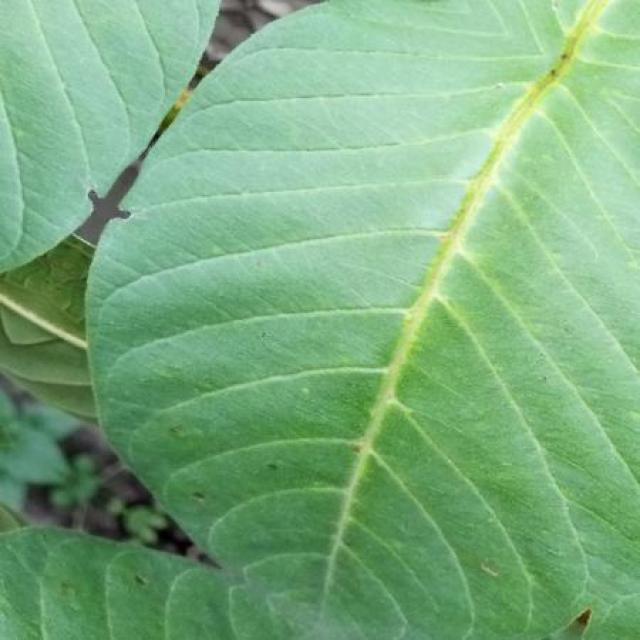Disease Free: (88, 1, 640, 640), (0, 0, 217, 271), (0, 528, 235, 640)
